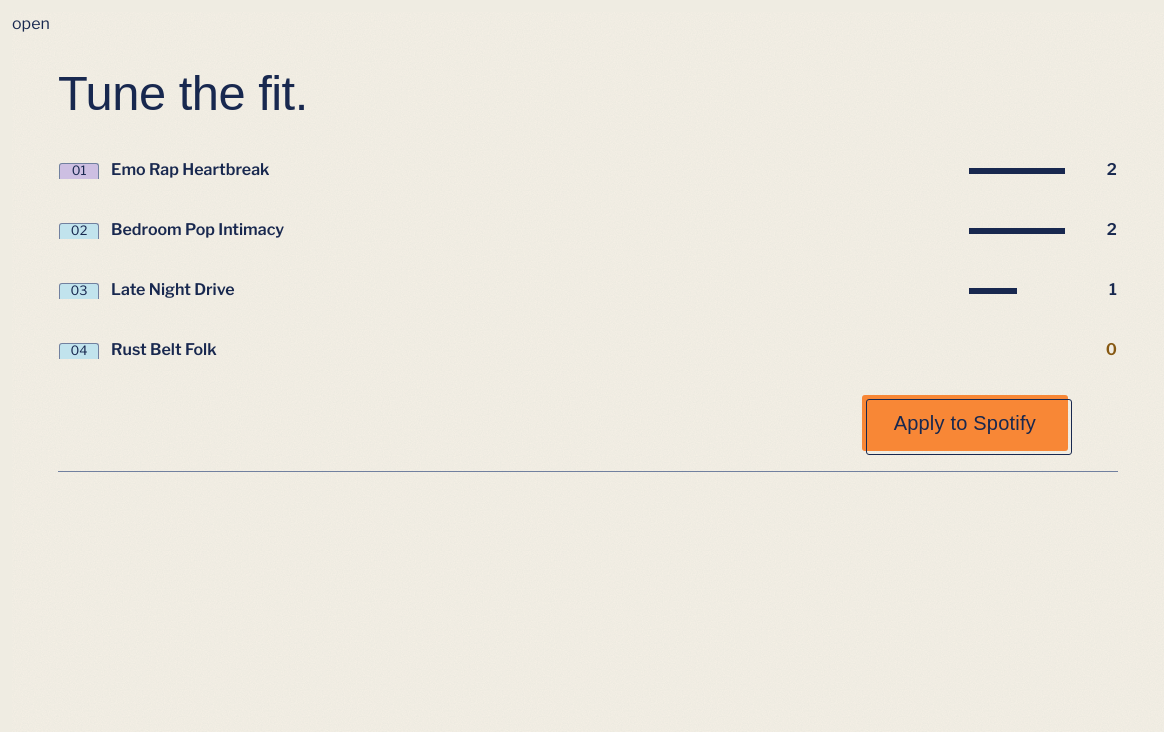
Test: /classify — tuning the fit › opens each playlist in place on a phone, one at a time
Click the button "01 Emo Rap Heartbreak 2" at x=79, y=171, box [48,143,1128,199]
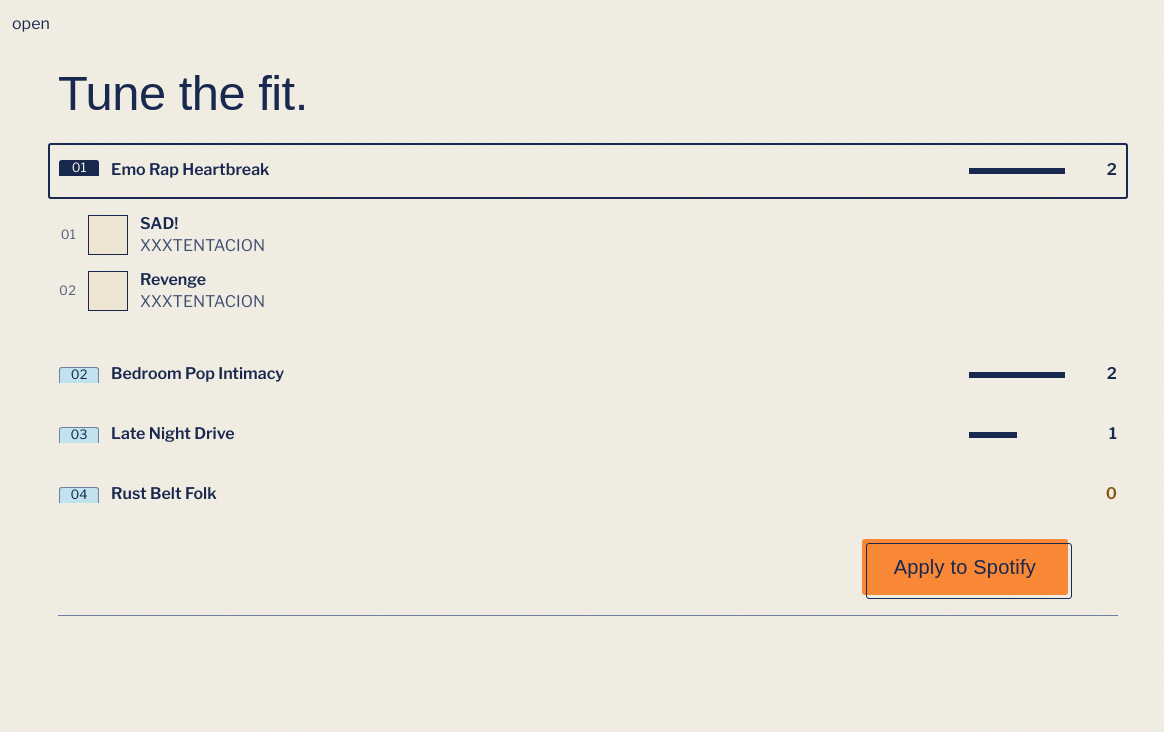
Now the button "01 Emo Rap Heartbreak 2" is expanded, box [48,143,1128,199]
Now the button with aria-label "Move SAD! by XXXTENTACION" is shown, box [48,207,1128,263]
Click the button "02 Bedroom Pop Intimacy 2" at x=79, y=375, box [48,347,1128,403]
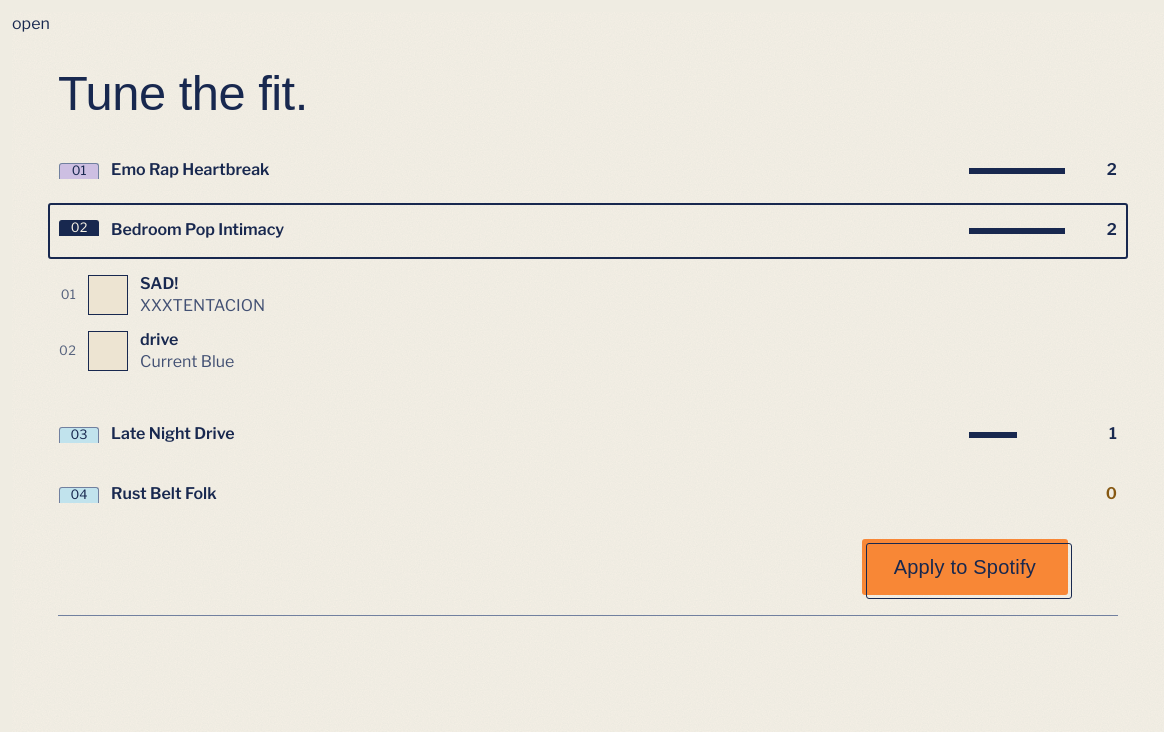
Now the button "01 Emo Rap Heartbreak 2" is collapsed, box [48,143,1128,199]
Now the button "02 Bedroom Pop Intimacy 2" is expanded
Click the button "02 Bedroom Pop Intimacy 2" at x=79, y=228, box [48,203,1128,259]
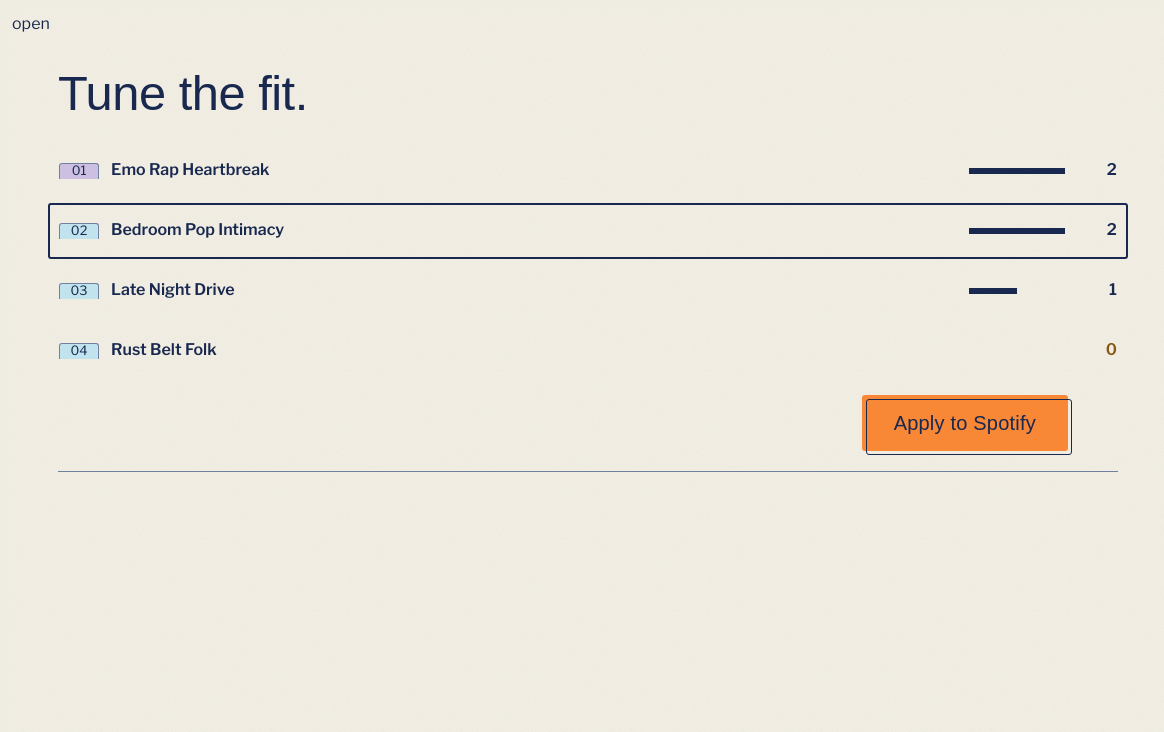
Now the button "02 Bedroom Pop Intimacy 2" is collapsed, box [48,203,1128,259]
